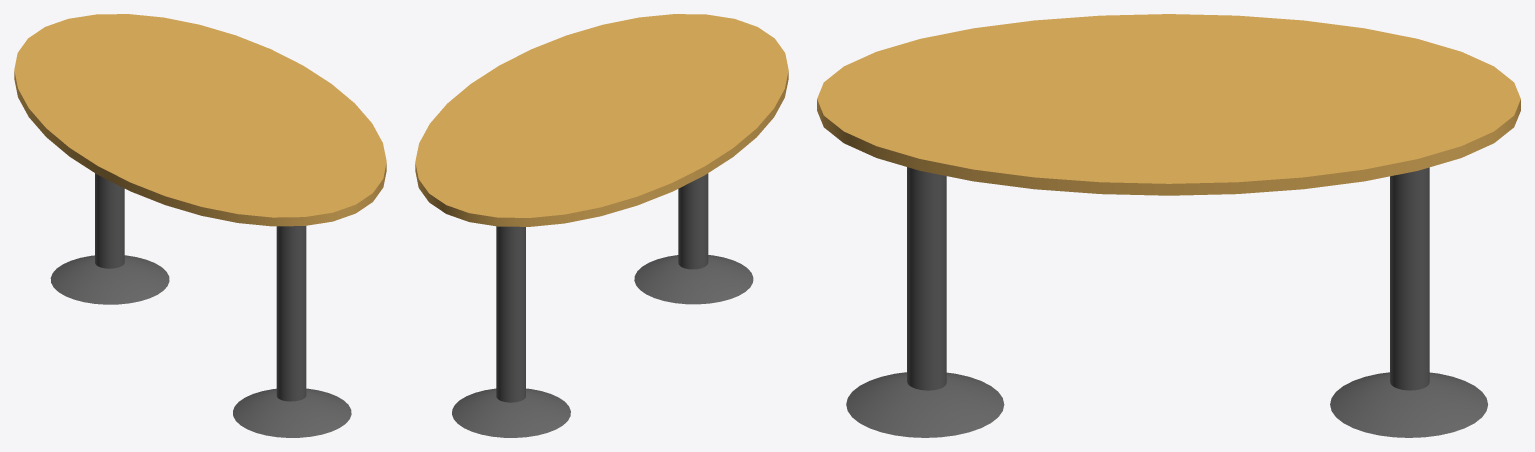
The model's file is Korridorbord.fbx.
3 renders of one model, left to right at view 1: azimuth 30°, elevation 25°; view 2: azimuth 150°, elevation 25°; view 3: azimuth 270°, elevation 25°, orthographic. The views are drawn at different scales.
Parts seen in each view (by area): view 1: Table, Legs; view 2: Table, Legs; view 3: Table, Legs.
Part boxes in pixels (x1=…): Table: x1=14, y1=14, x2=386, y2=226; Legs: x1=50, y1=173, x2=351, y2=437; Table: x1=415, y1=14, x2=788, y2=226; Legs: x1=452, y1=173, x2=753, y2=437; Table: x1=817, y1=14, x2=1520, y2=195; Legs: x1=846, y1=167, x2=1487, y2=437.
Size of the model in its own units: 610 by 512 by 1068.
